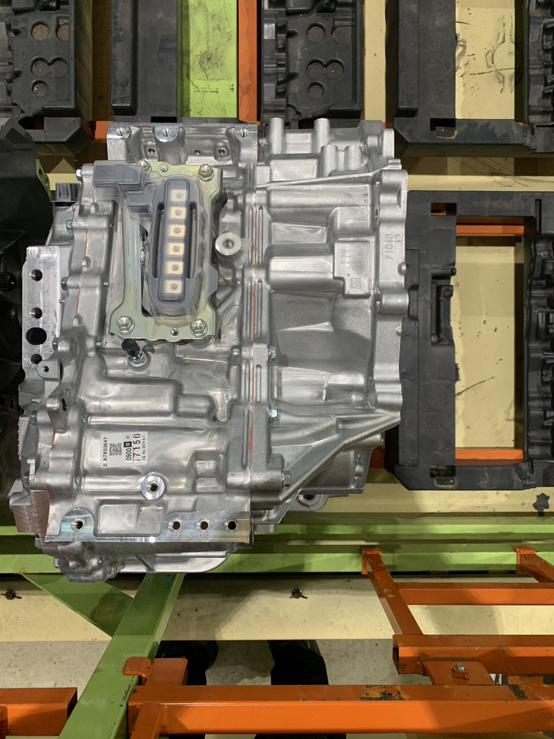gearbox_type3: (10, 118, 412, 582)
gearbox_type3_FP1: (156, 175, 200, 313)
gearbox_type3_FP2: (137, 473, 169, 502)
gearbox_type3_FP3: (22, 243, 61, 379)
